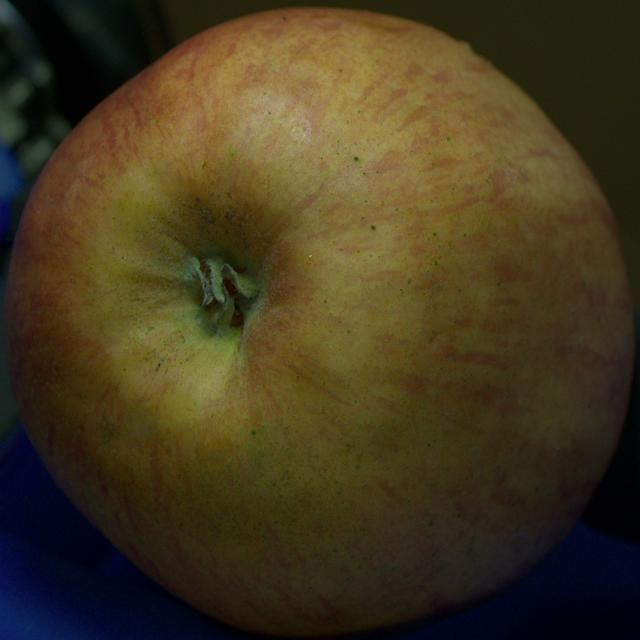apple: (6, 8, 634, 636)
bruise: (325, 11, 417, 34)
